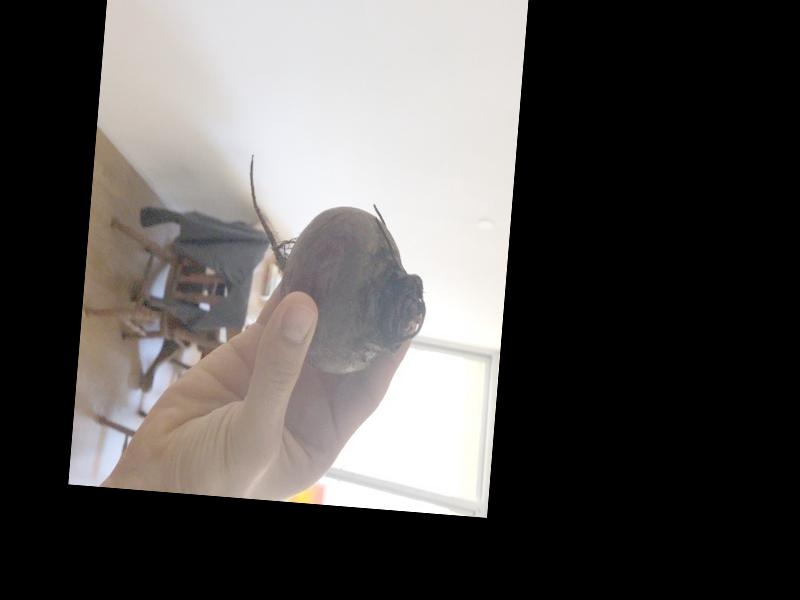Beet: (234, 154, 436, 379)
